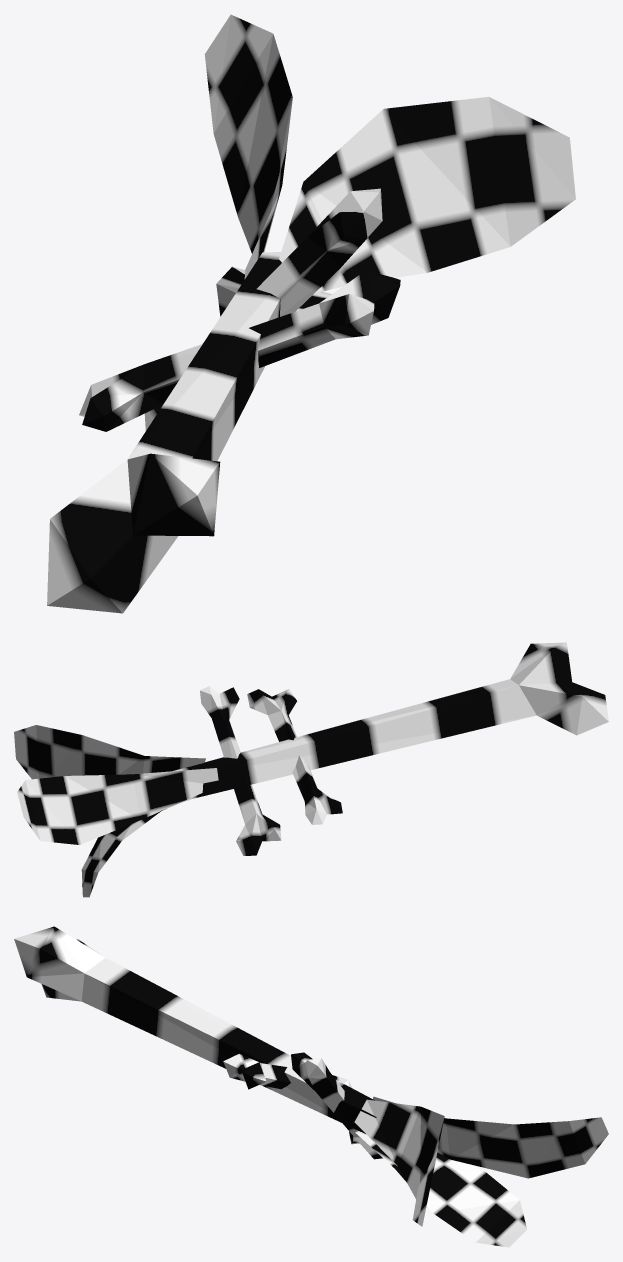
Rendered from initqi27.dae.
3 views of the same model, one above another, from view 1: azimuth 30°, elevation 25°; view 2: azimuth 150°, elevation 25°; view 3: azimuth 270°, elevation 25° (orthographic). The views are drawn at different scales.
Visible parts, largest first — view 1: item; view 2: item; view 3: item.
Boxes of the visible parts, x1,y1,x2,y2 form: item: (47, 14, 575, 613); item: (14, 642, 608, 897); item: (14, 926, 608, 1247).
Size of the model in its own units: 1.41 by 1.54 by 0.5111.
Materials: 1 (1 with a texture image).
